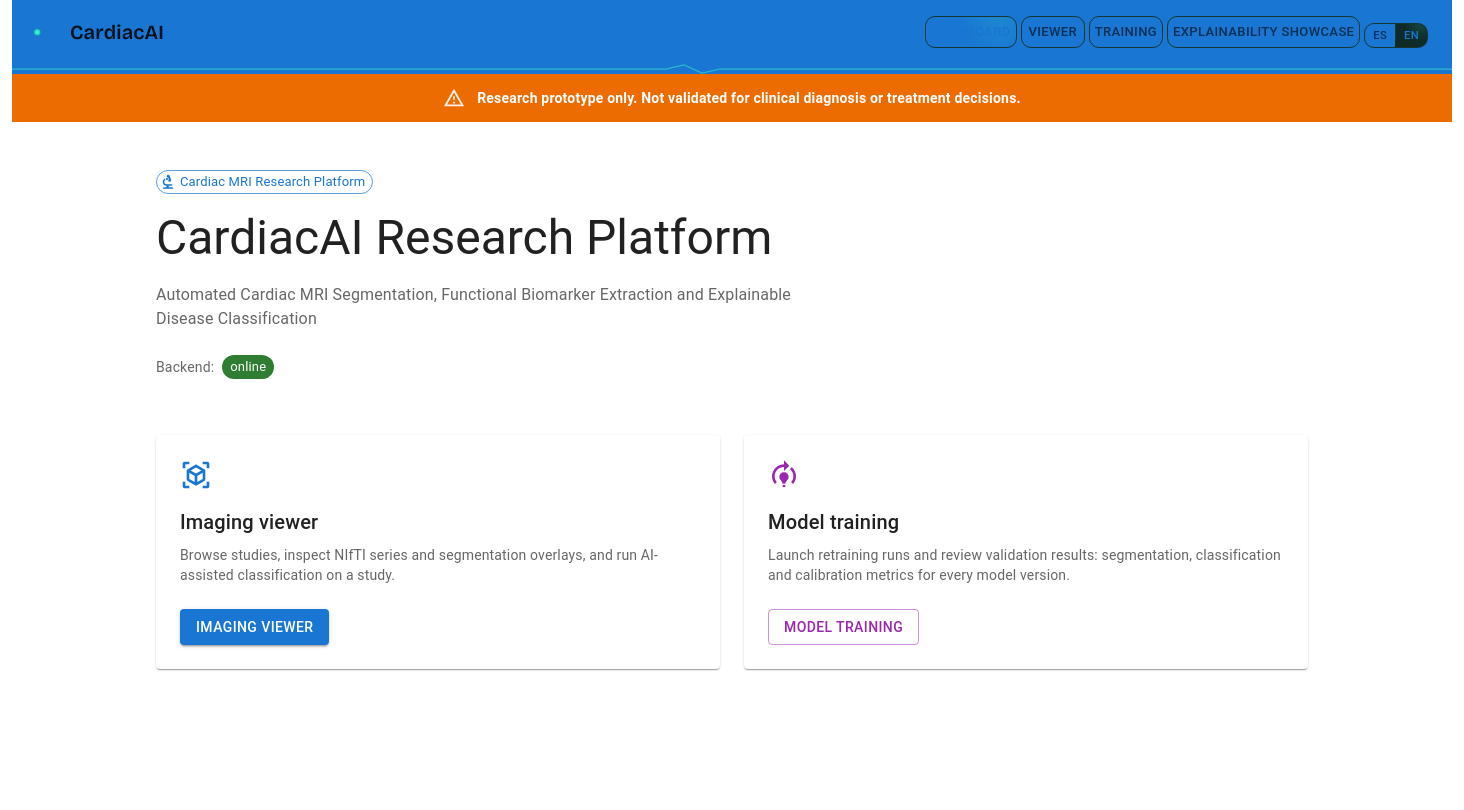
Test: LanguageSwitcher › switches every translated string on the page and persists the choice
Expected: the heading "CardiacAI Research Platform" is shown, [156, 209, 772, 266]
Expected: the heading "Imaging viewer" is shown, [180, 510, 318, 534]
Click the button with aria-label "Español": (1380, 36) [1364, 23, 1396, 48]
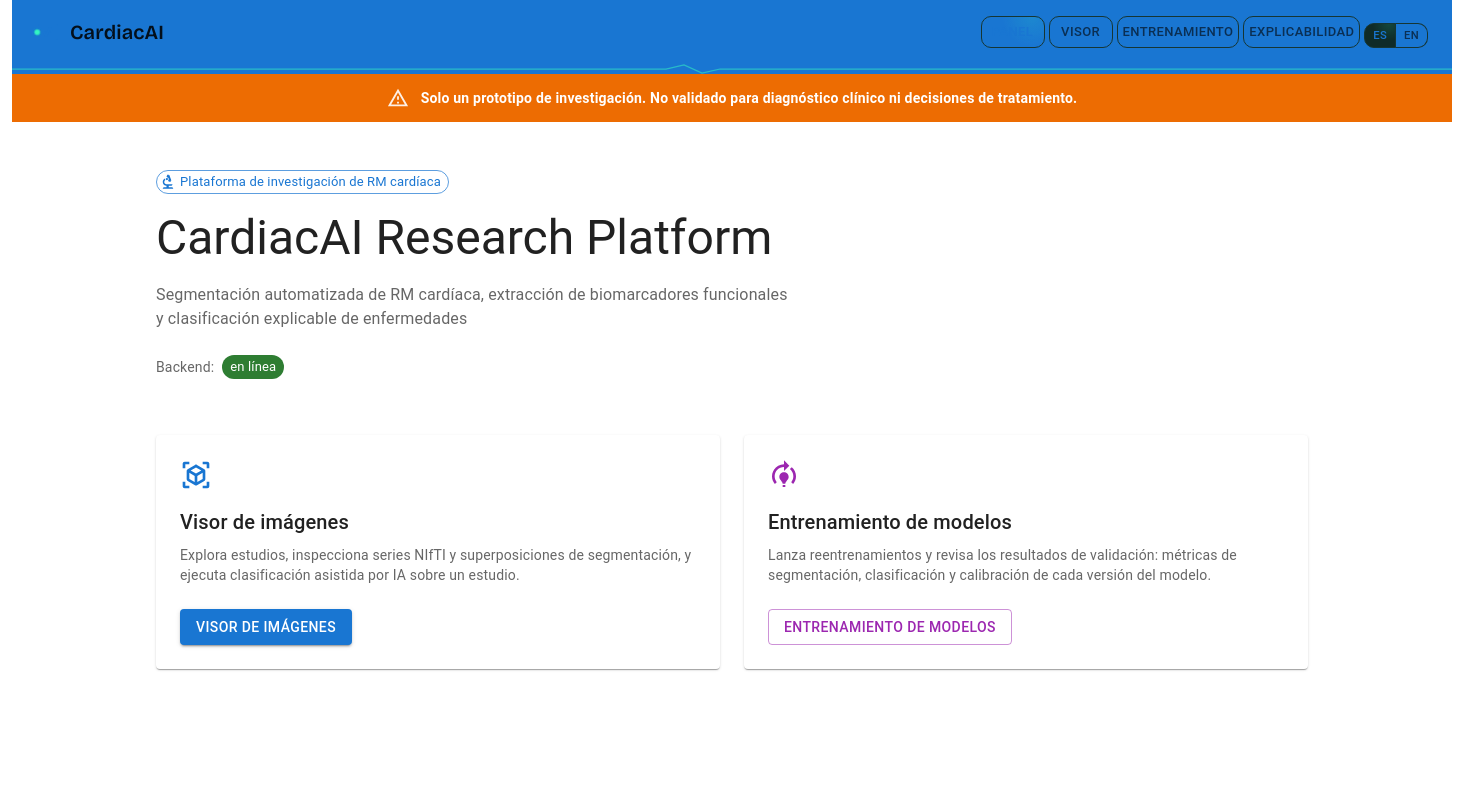
Expected: the text "Segmentación automatizada de RM cardíaca, extracción de biomarcadores funcionales y clasificación explicable de enfermed" is shown, [156, 285, 788, 328]
Expected: the heading "Visor de imágenes" is shown, [180, 510, 349, 534]
